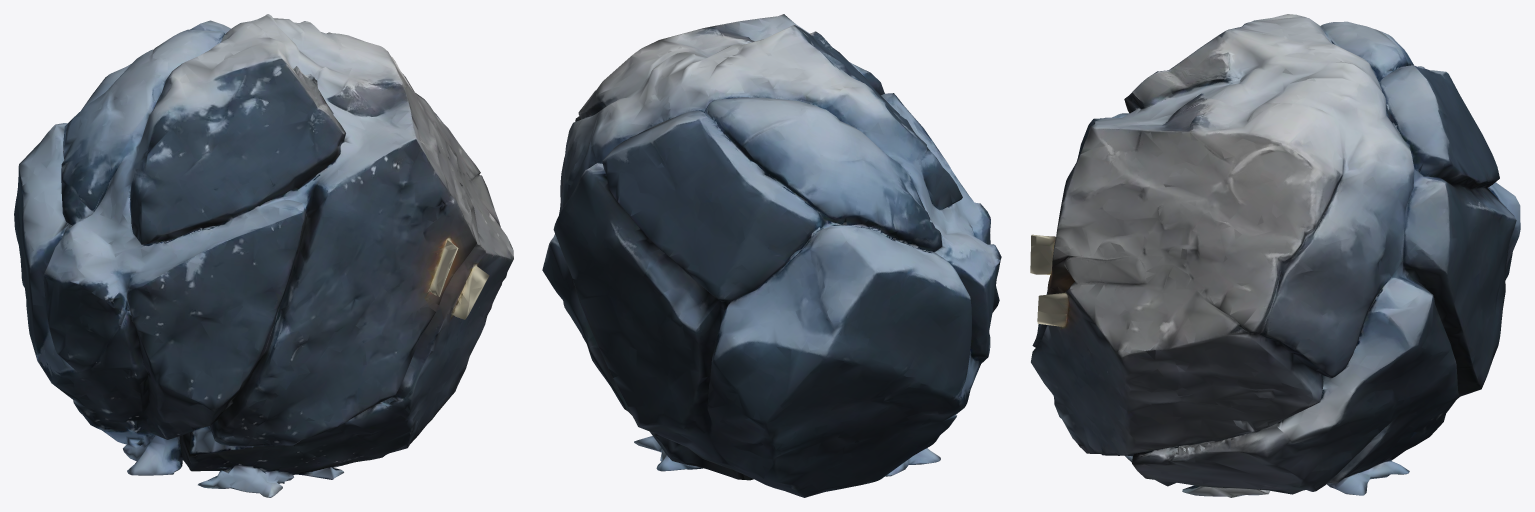
The model's file is roca_brillante.glb.
3 views of the same model, side by side, from view 1: azimuth 30°, elevation 25°; view 2: azimuth 150°, elevation 25°; view 3: azimuth 270°, elevation 25° (orthographic). The views are drawn at different scales.
Parts seen in each view (by area): view 1: tripo_node_2a170692; view 2: tripo_node_2a170692; view 3: tripo_node_2a170692.
Part boxes in pixels (x1,y1,x2,y2): tripo_node_2a170692: [14, 14, 513, 497]; tripo_node_2a170692: [542, 14, 1001, 497]; tripo_node_2a170692: [1030, 14, 1520, 497].
Bounding box in the file's own units: 0.9994 × 0.8834 × 0.9256.
1 material, 1 textured.
